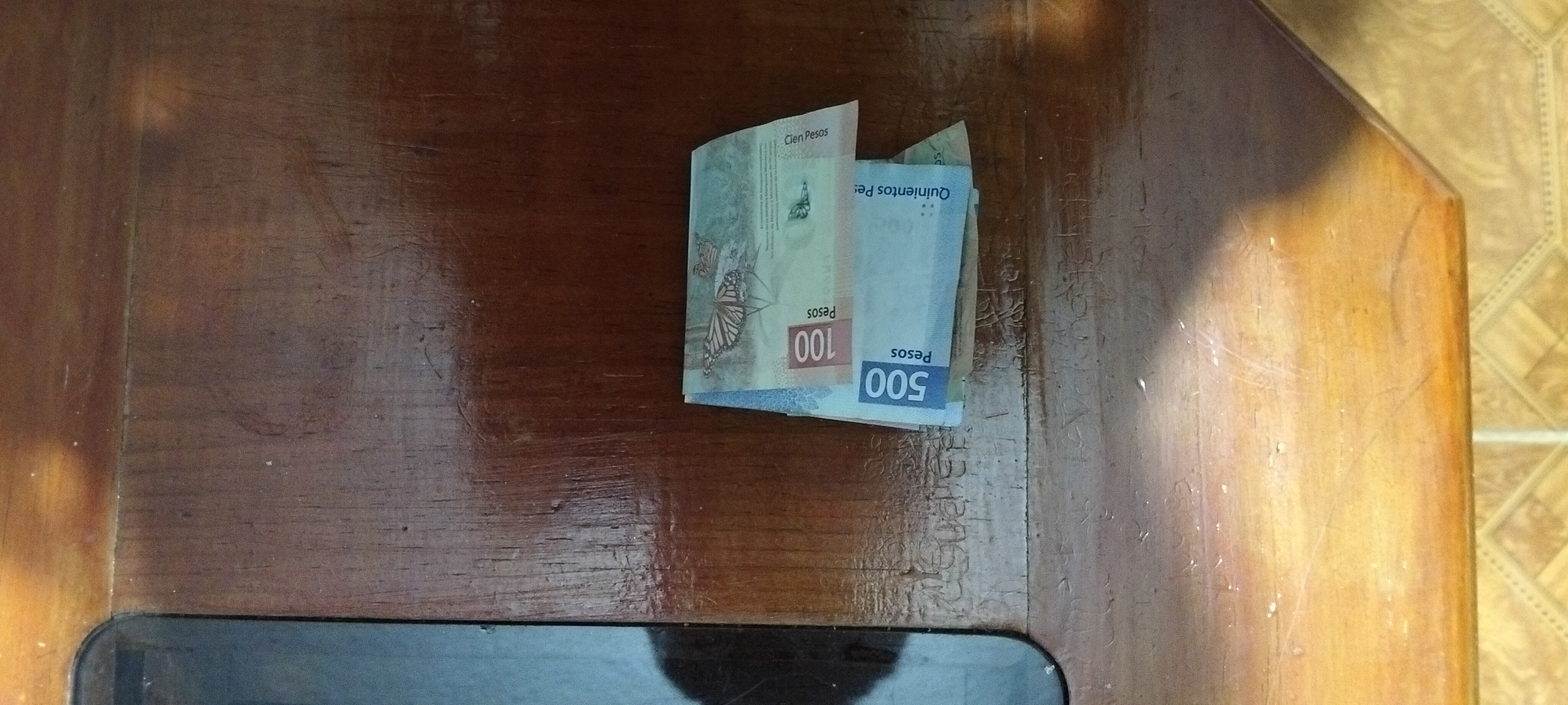billetes: (646, 86, 1027, 482)
